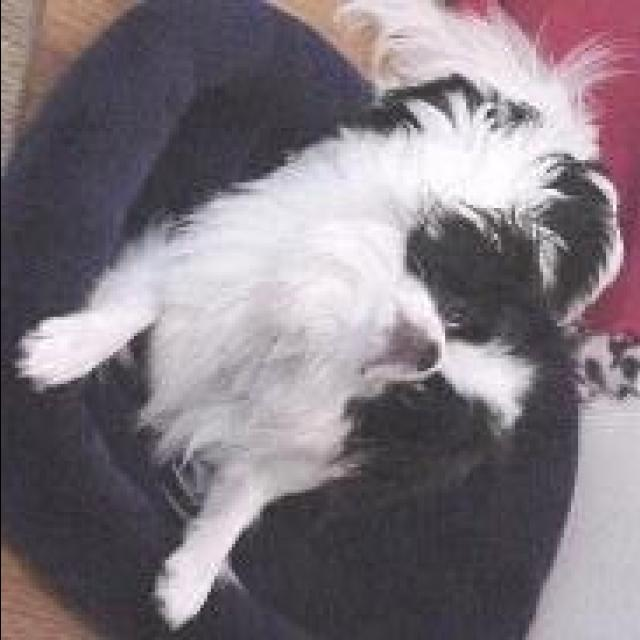husky: (14, 0, 640, 630)
